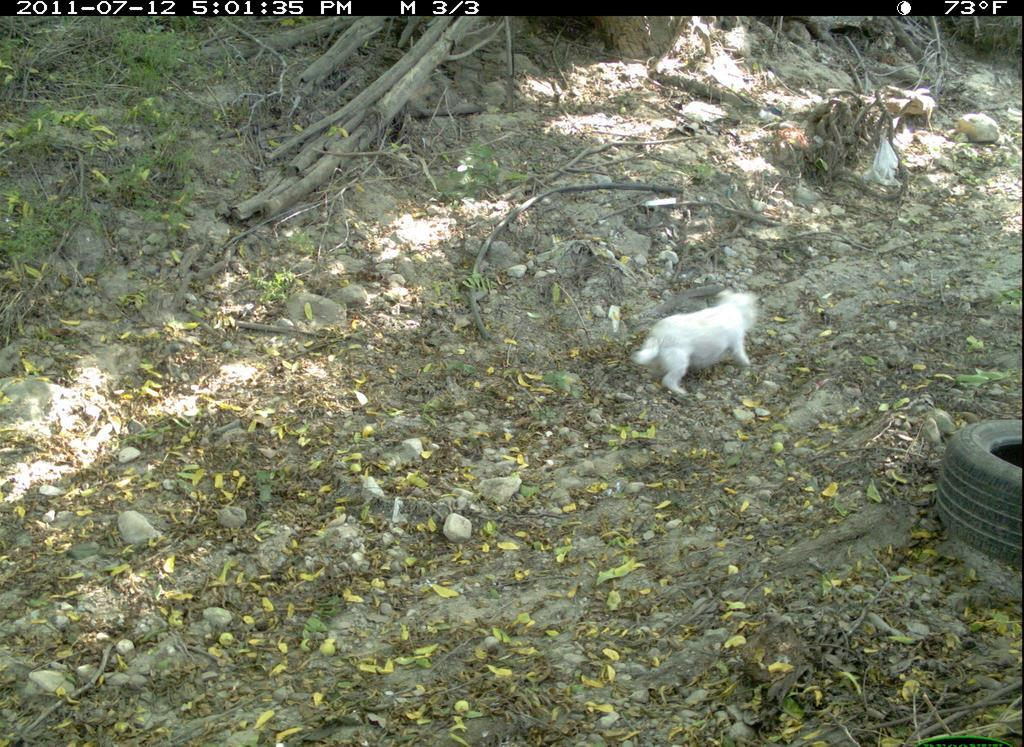dog: (620, 286, 771, 401)
